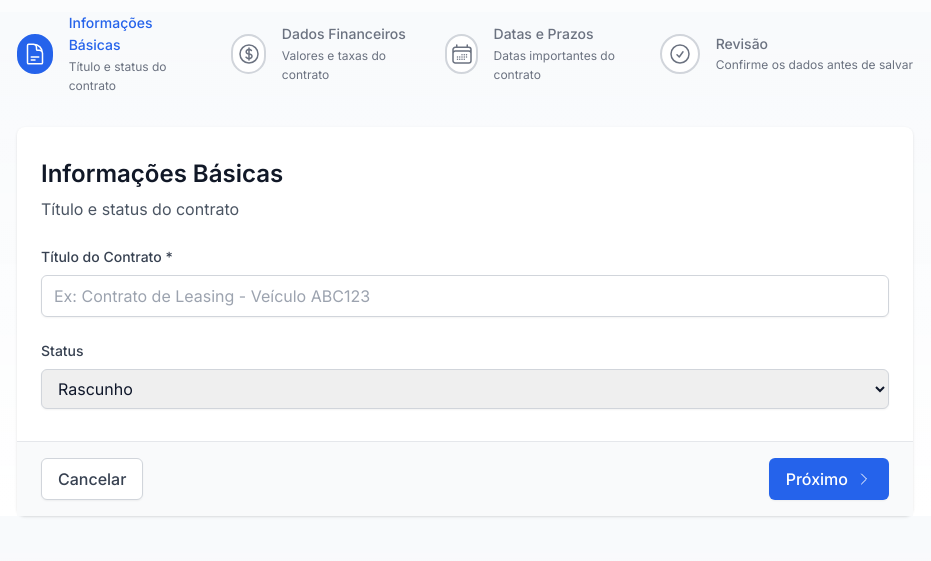
Test: ContractWizard › Form Validation › should clear errors when user starts typing
The width and height of the screenshot is (931, 561).
# Try to go to next step without filling required fields
Step 1. Click the button "Próximo" → (829,479), box [769,458,889,500]
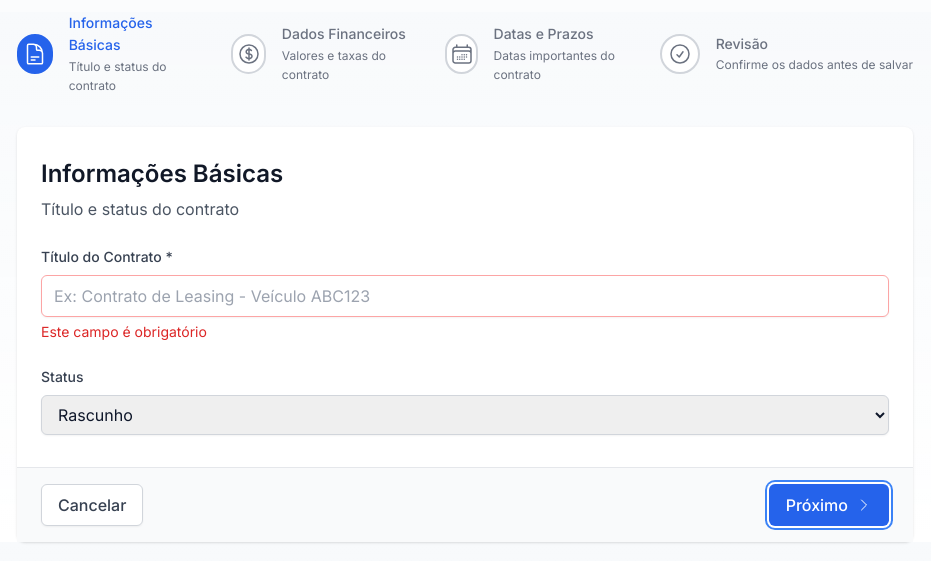
Check: the text "Este campo é obrigatório" is shown, box [41,323,207,340]
# Start typing in the field
Step 2. Type "Test" into the field labelled "Título do Contrato *" → (465,296), box [41,275,889,317]
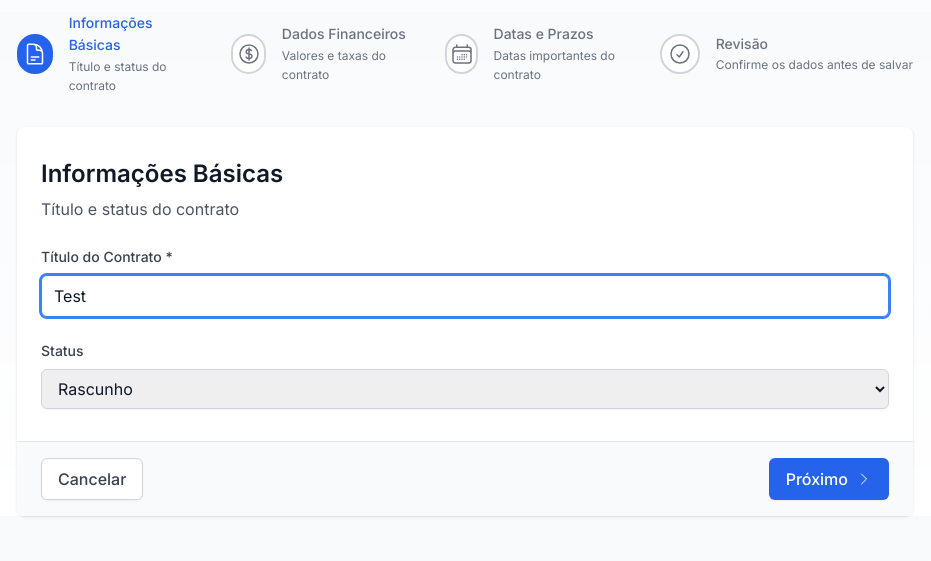
Check: the text "Este campo é obrigatório" is gone
